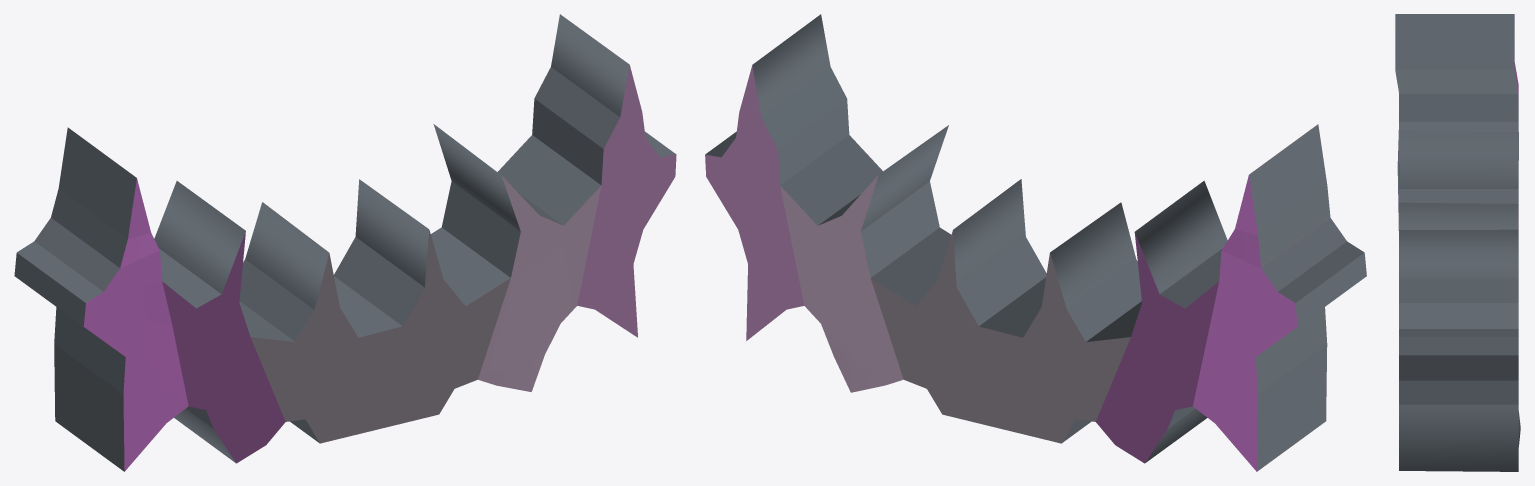
The model's file is Armor.fbx.
3 renders of one model, left to right at view 1: azimuth 30°, elevation 25°; view 2: azimuth 150°, elevation 25°; view 3: azimuth 270°, elevation 25°, orthographic. The views are drawn at different scales.
Visible parts, largest first — view 1: Armor_lvl_03, Armor_lvl_01, Armor_lvl_02; view 2: Armor_lvl_03, Armor_lvl_01, Armor_lvl_02; view 3: Armor_lvl_03, Armor_lvl_02, Armor_lvl_01.
Part boxes in pixels (box(x1,y1,x2,y2)): Armor_lvl_03: box(14, 14, 676, 471); Armor_lvl_01: box(239, 179, 510, 443); Armor_lvl_02: box(154, 124, 601, 463); Armor_lvl_03: box(705, 14, 1366, 471); Armor_lvl_01: box(870, 179, 1141, 443); Armor_lvl_02: box(780, 125, 1227, 463); Armor_lvl_03: box(1395, 14, 1518, 471); Armor_lvl_02: box(1399, 121, 1520, 446); Armor_lvl_01: box(1399, 202, 1518, 229).
Size of the model in its own units: 1803 by 384 by 910.
Materials: 1 (1 with a texture image).
